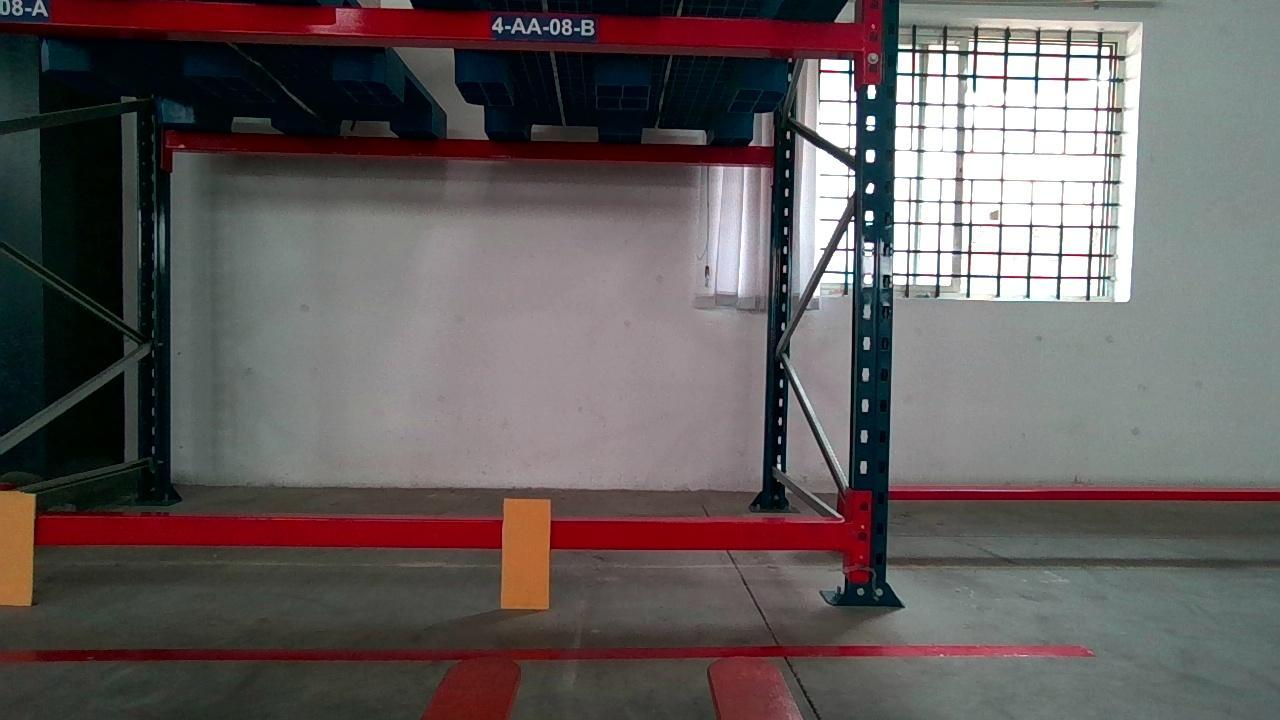h_rack: (2, 2, 861, 58), (0, 513, 850, 549)
orange_strip: (496, 494, 552, 610), (1, 491, 38, 605)
red_line: (0, 644, 1105, 668)
